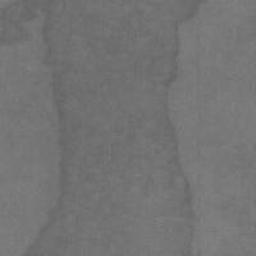Water spot: (0, 0, 204, 253)
